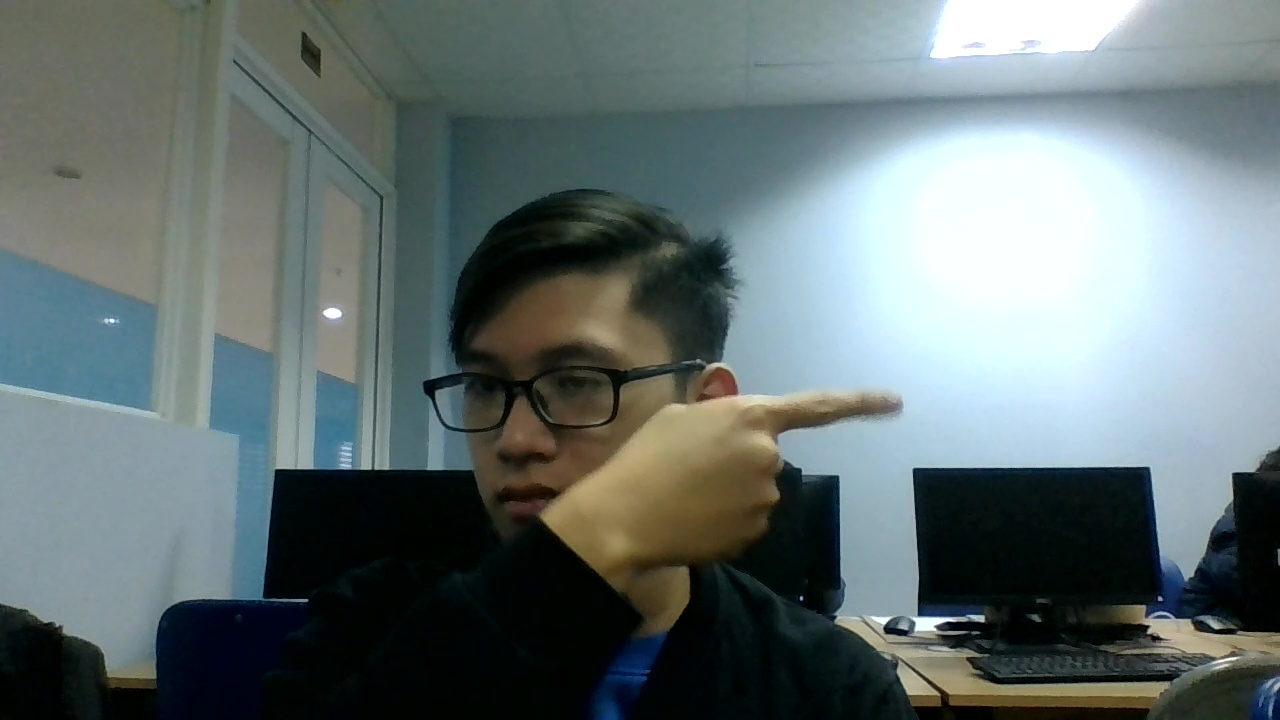left: (611, 374, 905, 560)
